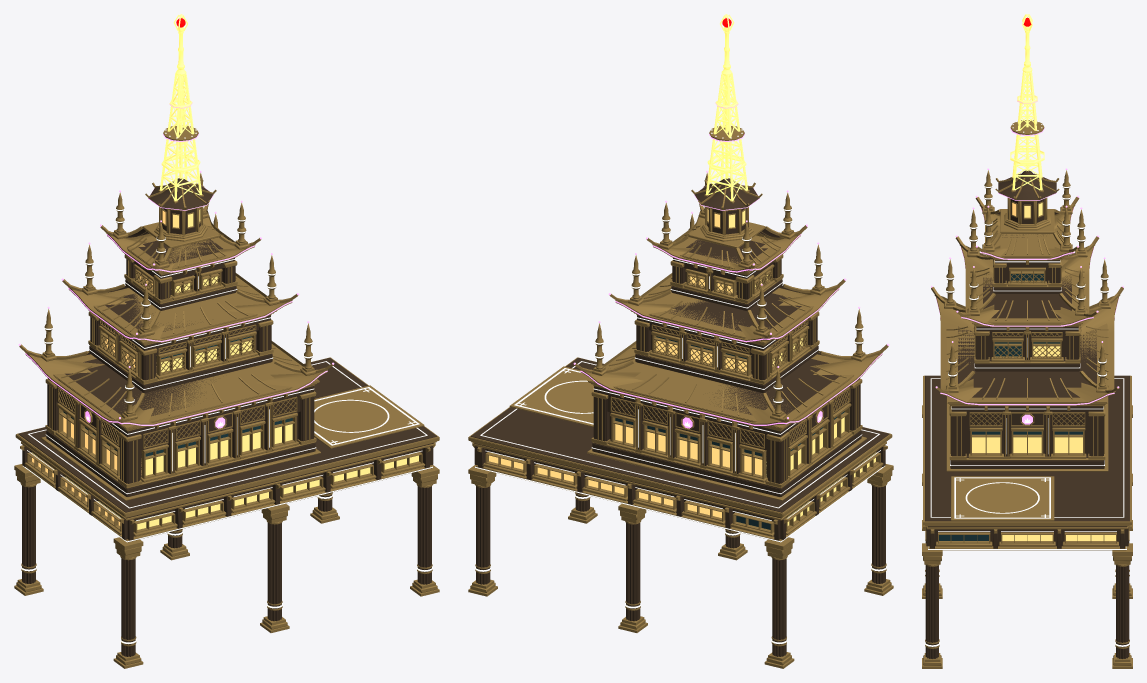
Rendered from crown286.glb.
3 views of the same model, side by side, from view 1: azimuth 30°, elevation 25°; view 2: azimuth 150°, elevation 25°; view 3: azimuth 270°, elevation 25° (orthographic). The views are drawn at different scales.
Visible parts, largest first — view 1: c286-trim, c286-body, c286-led, c286-room, c286-spire, c286-neon; view 2: c286-trim, c286-body, c286-led, c286-room, c286-spire, c286-neon, c286-glass; view 3: c286-trim, c286-body, c286-led, c286-room, c286-spire, c286-neon, c286-glass.
Boxes of the visible parts, x1,y1,x2,y2 form: c286-trim: [14, 126, 439, 668]; c286-body: [18, 178, 437, 656]; c286-led: [21, 125, 432, 643]; c286-room: [32, 209, 418, 529]; c286-spire: [160, 14, 202, 201]; c286-neon: [18, 99, 334, 428]; c286-trim: [468, 126, 893, 668]; c286-body: [470, 178, 889, 656]; c286-led: [475, 125, 886, 643]; c286-room: [489, 209, 875, 525]; c286-spire: [705, 14, 747, 201]; c286-neon: [573, 99, 889, 428]; c286-glass: [615, 336, 844, 529]; c286-trim: [922, 120, 1132, 668]; c286-body: [925, 170, 1129, 658]; c286-led: [924, 121, 1130, 646]; c286-room: [972, 203, 1115, 540]; c286-spire: [1010, 14, 1044, 190]; c286-neon: [931, 95, 1123, 424]; c286-glass: [939, 274, 1082, 540].
Bounding box in the file's own units: 8.44 × 14.96 × 5.1.
